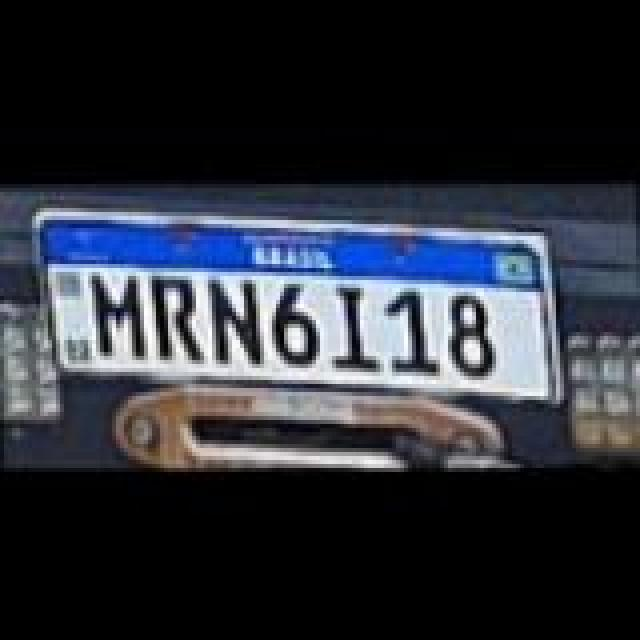1: (386, 284, 438, 368)
6: (270, 278, 322, 362)
8: (452, 290, 500, 374)
I: (332, 280, 380, 368)
M: (92, 270, 148, 358)
N: (212, 276, 268, 364)
R: (152, 272, 208, 360)
